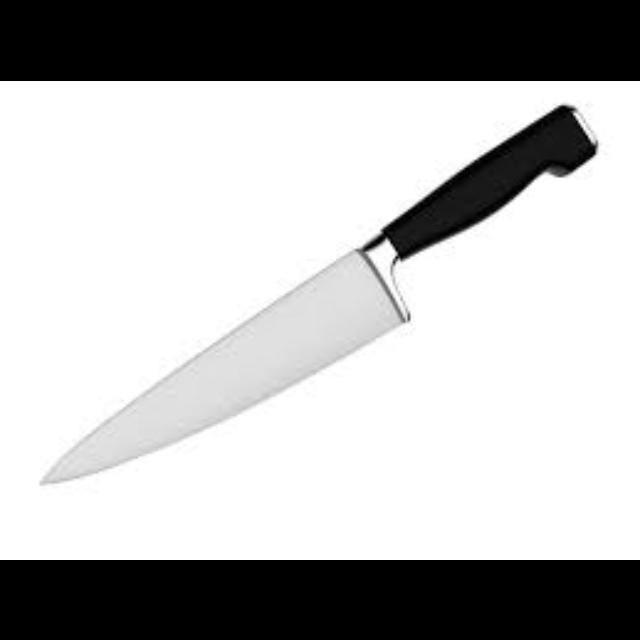knife: (38, 100, 598, 486)
